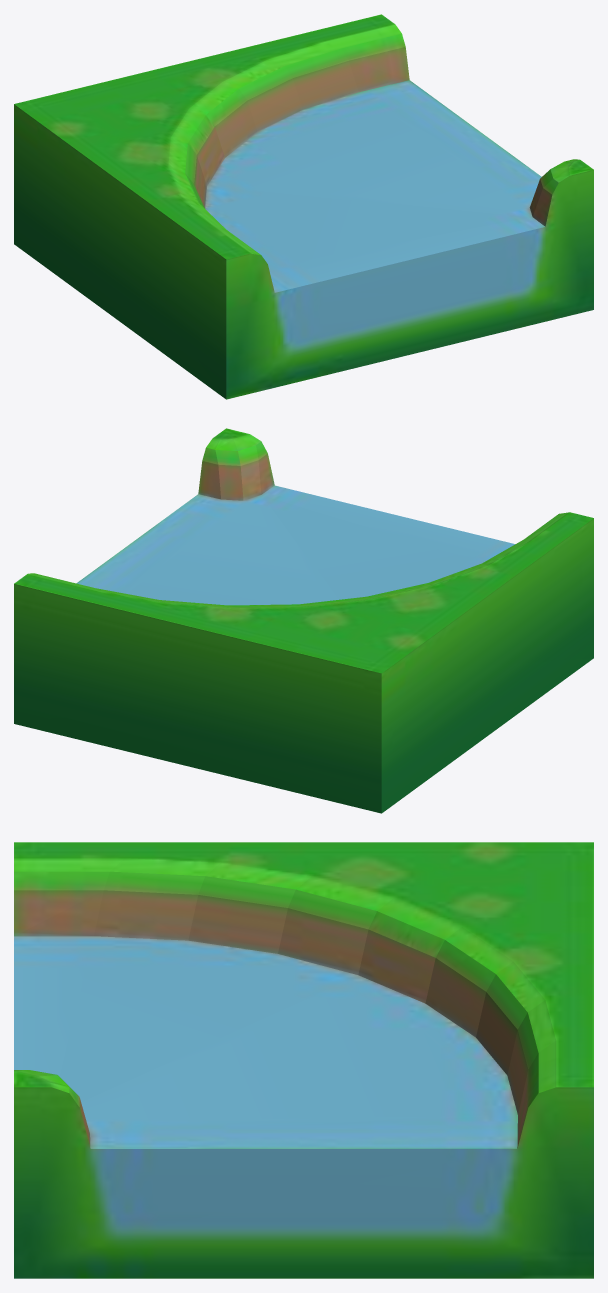
File: creek_end.glb
3 renders of one model, top to bottom at view 1: azimuth 30°, elevation 25°; view 2: azimuth 150°, elevation 25°; view 3: azimuth 270°, elevation 25°, orthographic. The views are drawn at different scales.
Parts seen in each view (by area): view 1: creek_end; view 2: creek_end; view 3: creek_end.
Part boxes in pixels (x1,y1,x2,y2): creek_end: (14, 14, 593, 399); creek_end: (14, 428, 593, 813); creek_end: (14, 842, 593, 1278).
Bounding box in the file's own units: 2 × 0.7285 × 2.
1 material, 1 textured.
